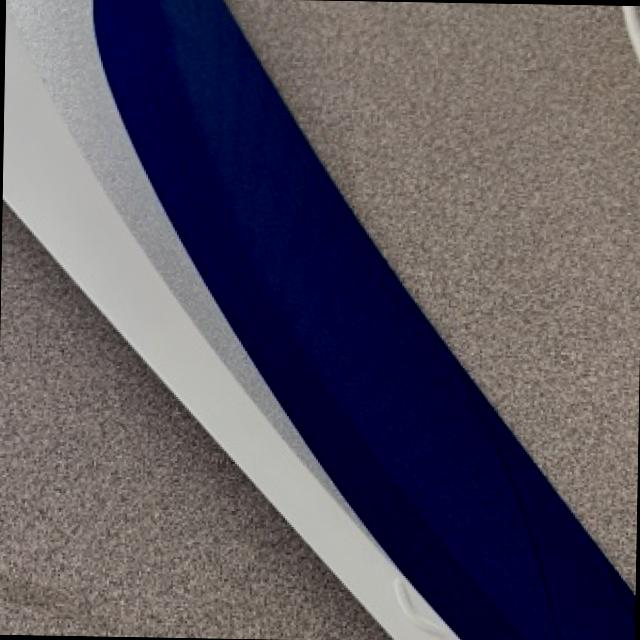healthy: (97, 0, 635, 640)
